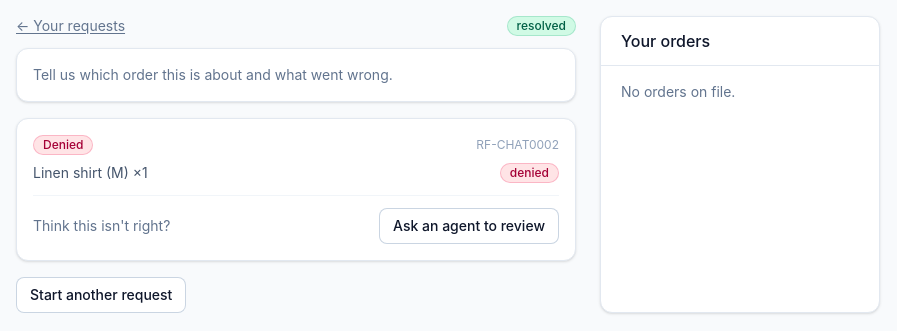
Test: ChatView › sends an automatic denial for review when the customer asks
The image size is (897, 331).
Click the button "Ask an agent to review". click: x=469, y=226
box: [379, 208, 559, 244]
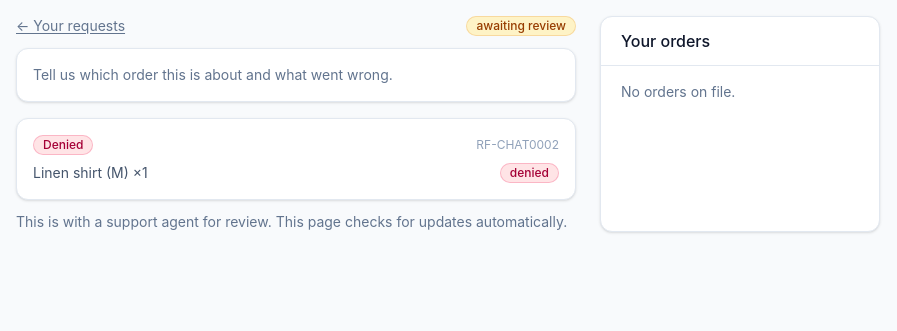
Result: the text "with a support agent for review" is shown at [16, 213, 567, 230]
Result: the button "Ask an agent to review" is gone
